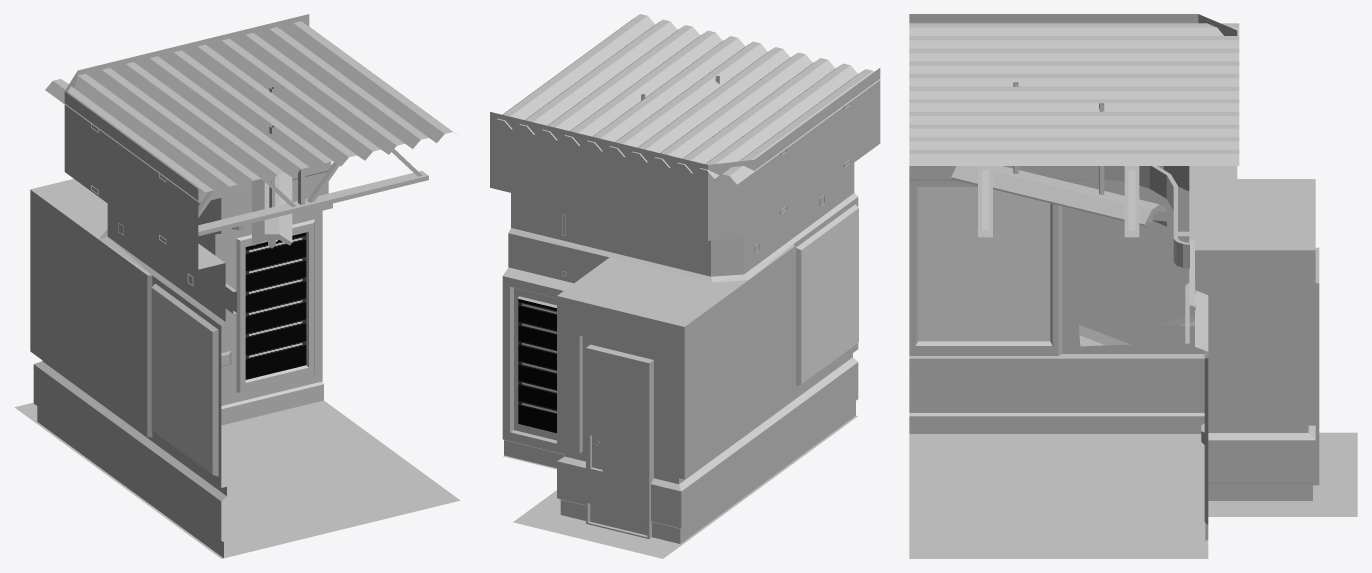
File: Store_Build_Corner_TL_0.dae
The picture shows the model from 3 angles, left to right: view 1: azimuth 30°, elevation 25°; view 2: azimuth 150°, elevation 25°; view 3: azimuth 270°, elevation 25°; orthographic projection. The views are drawn at different scales.
Parts seen in each view (by area): view 1: Store_Corner_TL; view 2: Store_Corner_TL; view 3: Store_Corner_TL.
Boxes of the visible parts, box(x1,y1,x2,y2) form: Store_Corner_TL: box(14, 14, 460, 558); Store_Corner_TL: box(490, 14, 880, 558); Store_Corner_TL: box(909, 14, 1357, 558).
Size of the model in its own units: 2.2 by 3 by 3.
